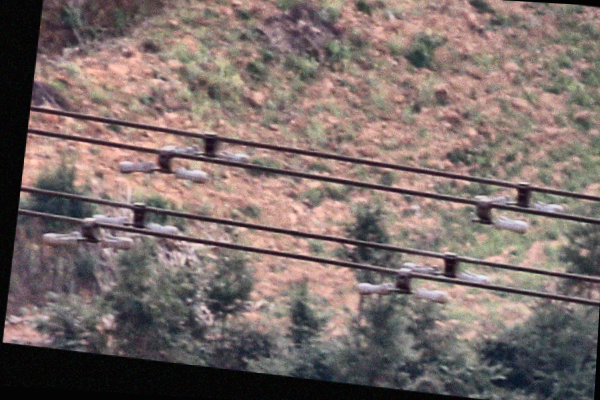damper: (85, 198, 182, 237), (353, 267, 450, 306), (115, 145, 210, 184), (471, 176, 564, 215), (399, 248, 490, 286), (40, 215, 136, 251), (164, 129, 251, 162)
damper_defect: (463, 197, 528, 236)
